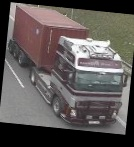truck: (3, 5, 134, 127)
